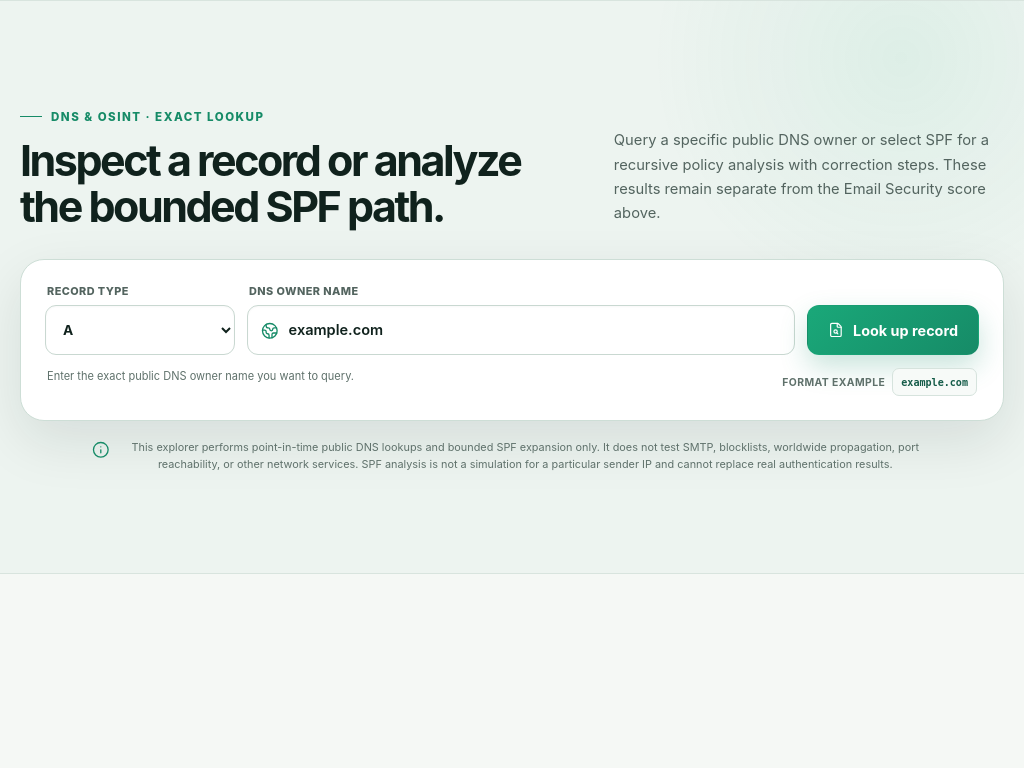
DNS record explorer interactions › offers first-class SPF analysis and renders lookup evidence with correction steps
Select "SPF analyzer" in the dropdown labelled "Record type". click: (140, 330)
box: left=45, top=305, right=235, bottom=355
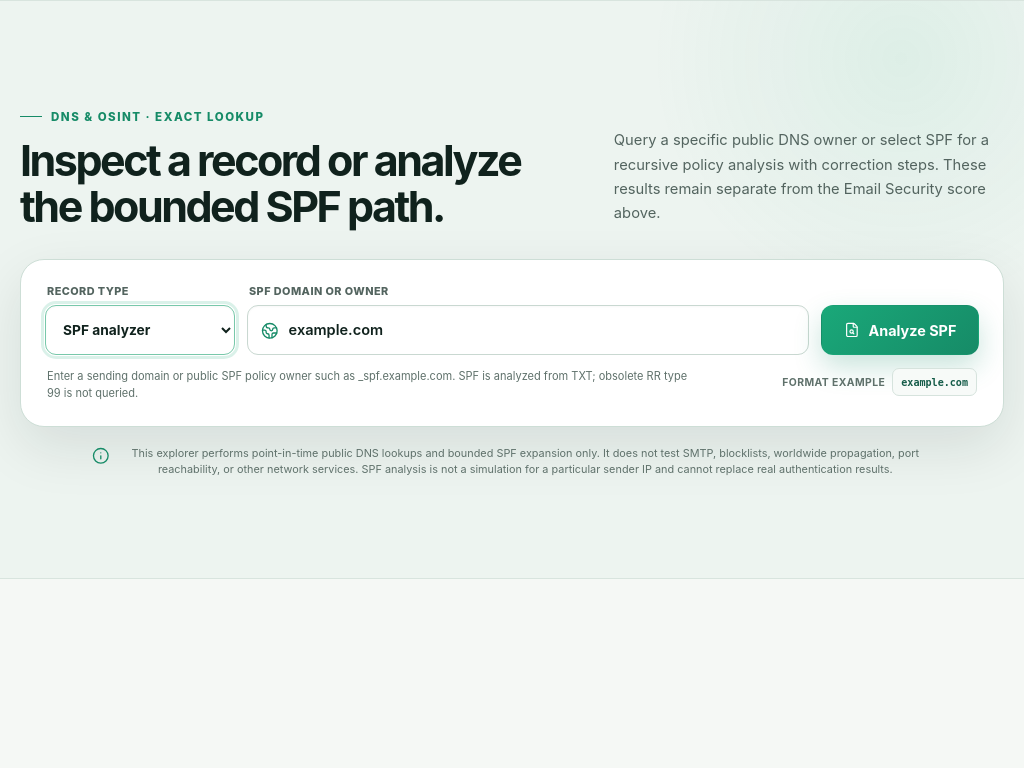
Check: the field labelled "SPF domain or owner" holds "example.com", box left=289, top=306, right=795, bottom=354
Click the button "Analyze SPF". click: (900, 330)
box: left=821, top=305, right=979, bottom=355
(page scrolled)
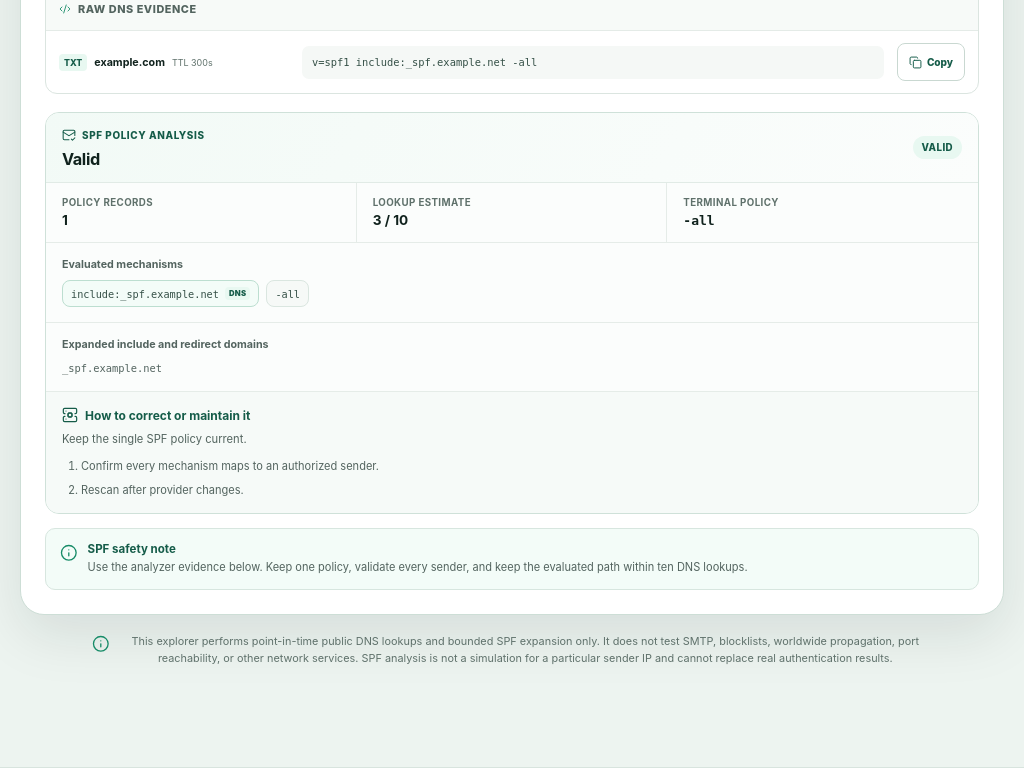
Check: the text "SPF policy analysis" is shown, box left=62, top=128, right=204, bottom=142
Check: the text "3 / 10" is shown, box left=373, top=212, right=408, bottom=228
Check: the text "include:_spf.example.net" is shown, box left=71, top=288, right=219, bottom=300
